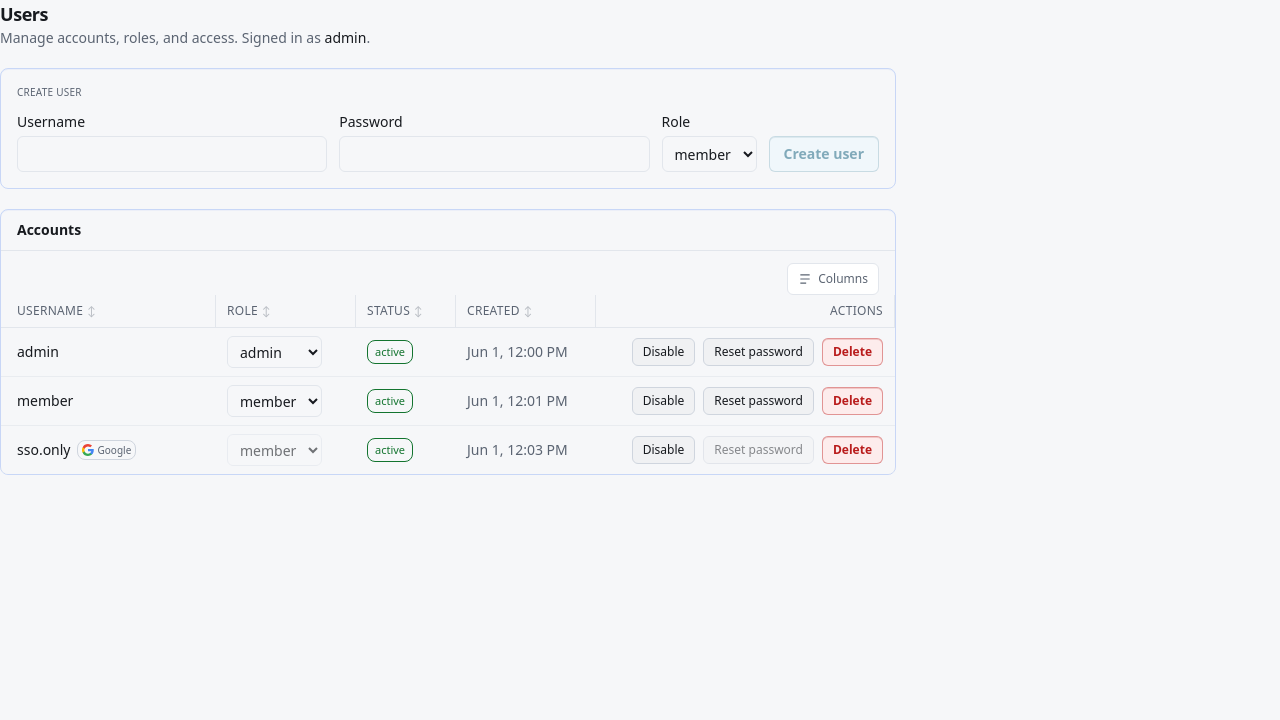
Test: AdminPage server refusals › shows the server's sentence when deleting the last admin
Click the button "Delete" in the row of "Jun 1, 12:00 PM": (852, 352) x1=822 y1=338 x2=883 y2=366
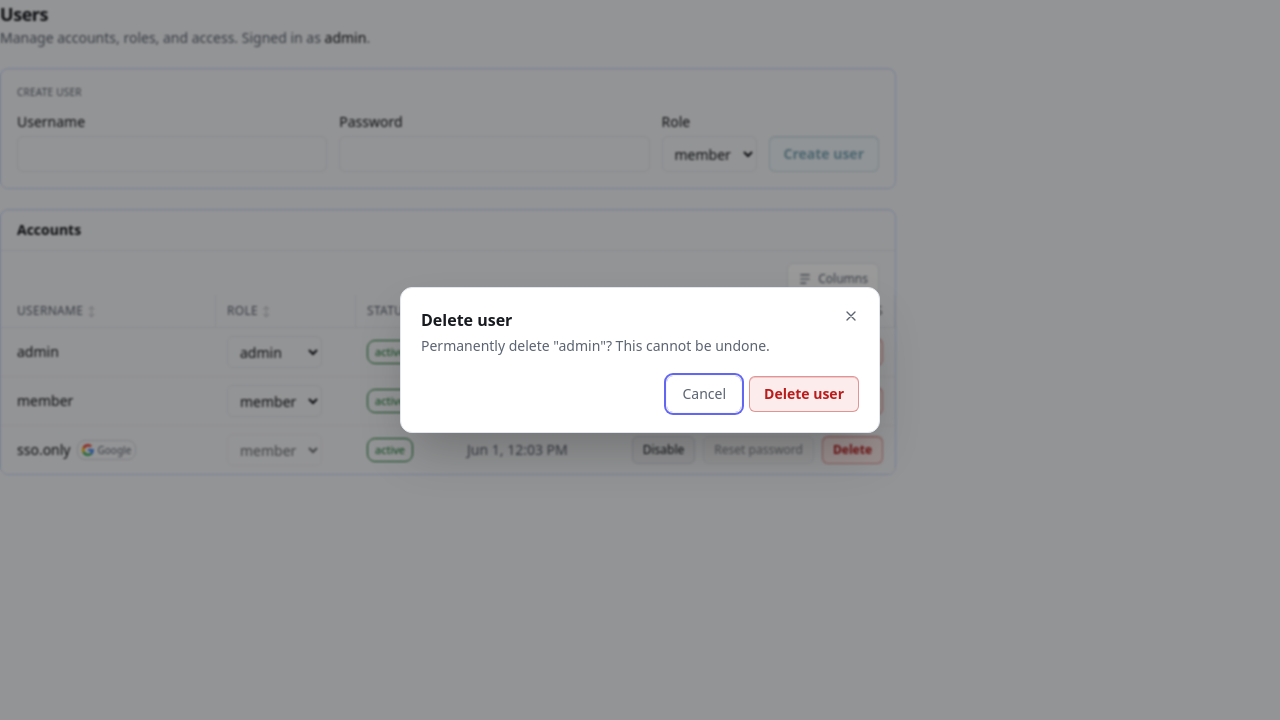
Click the button "Delete user": (804, 394) x1=749 y1=376 x2=859 y2=412
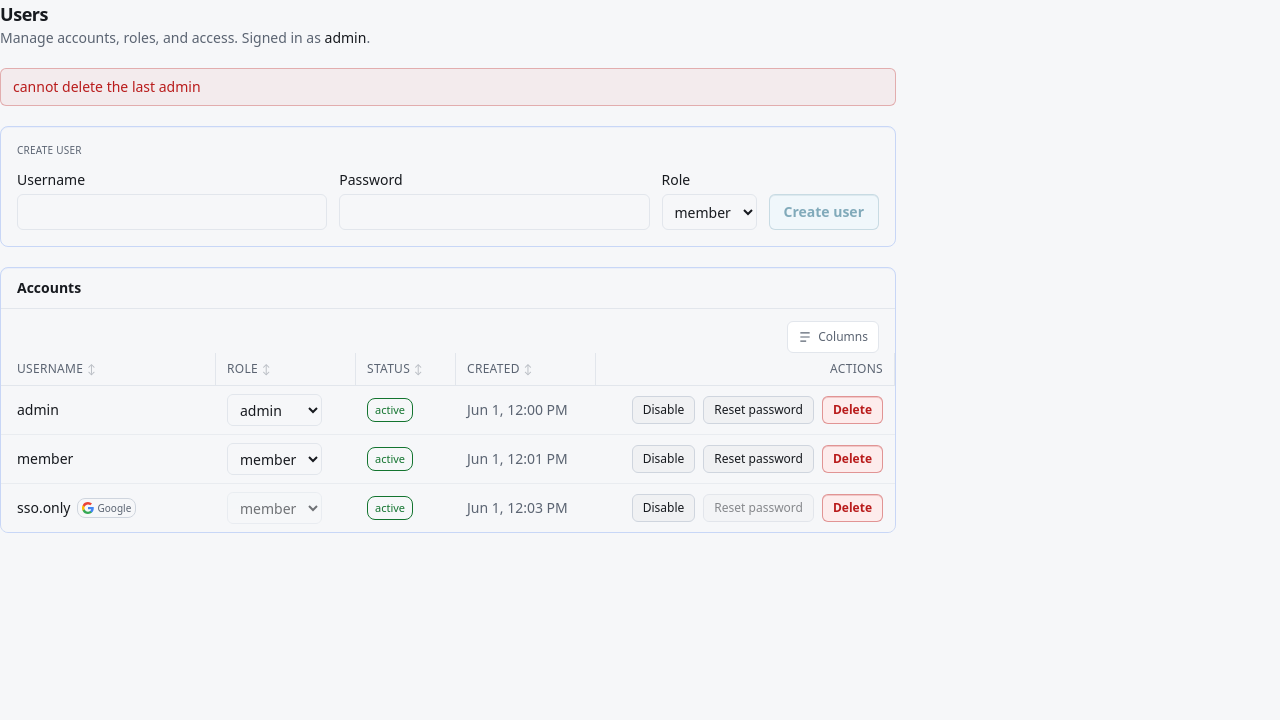
Result: the message reads "cannot delete the last admin" at x1=13 y1=77 x2=201 y2=96
